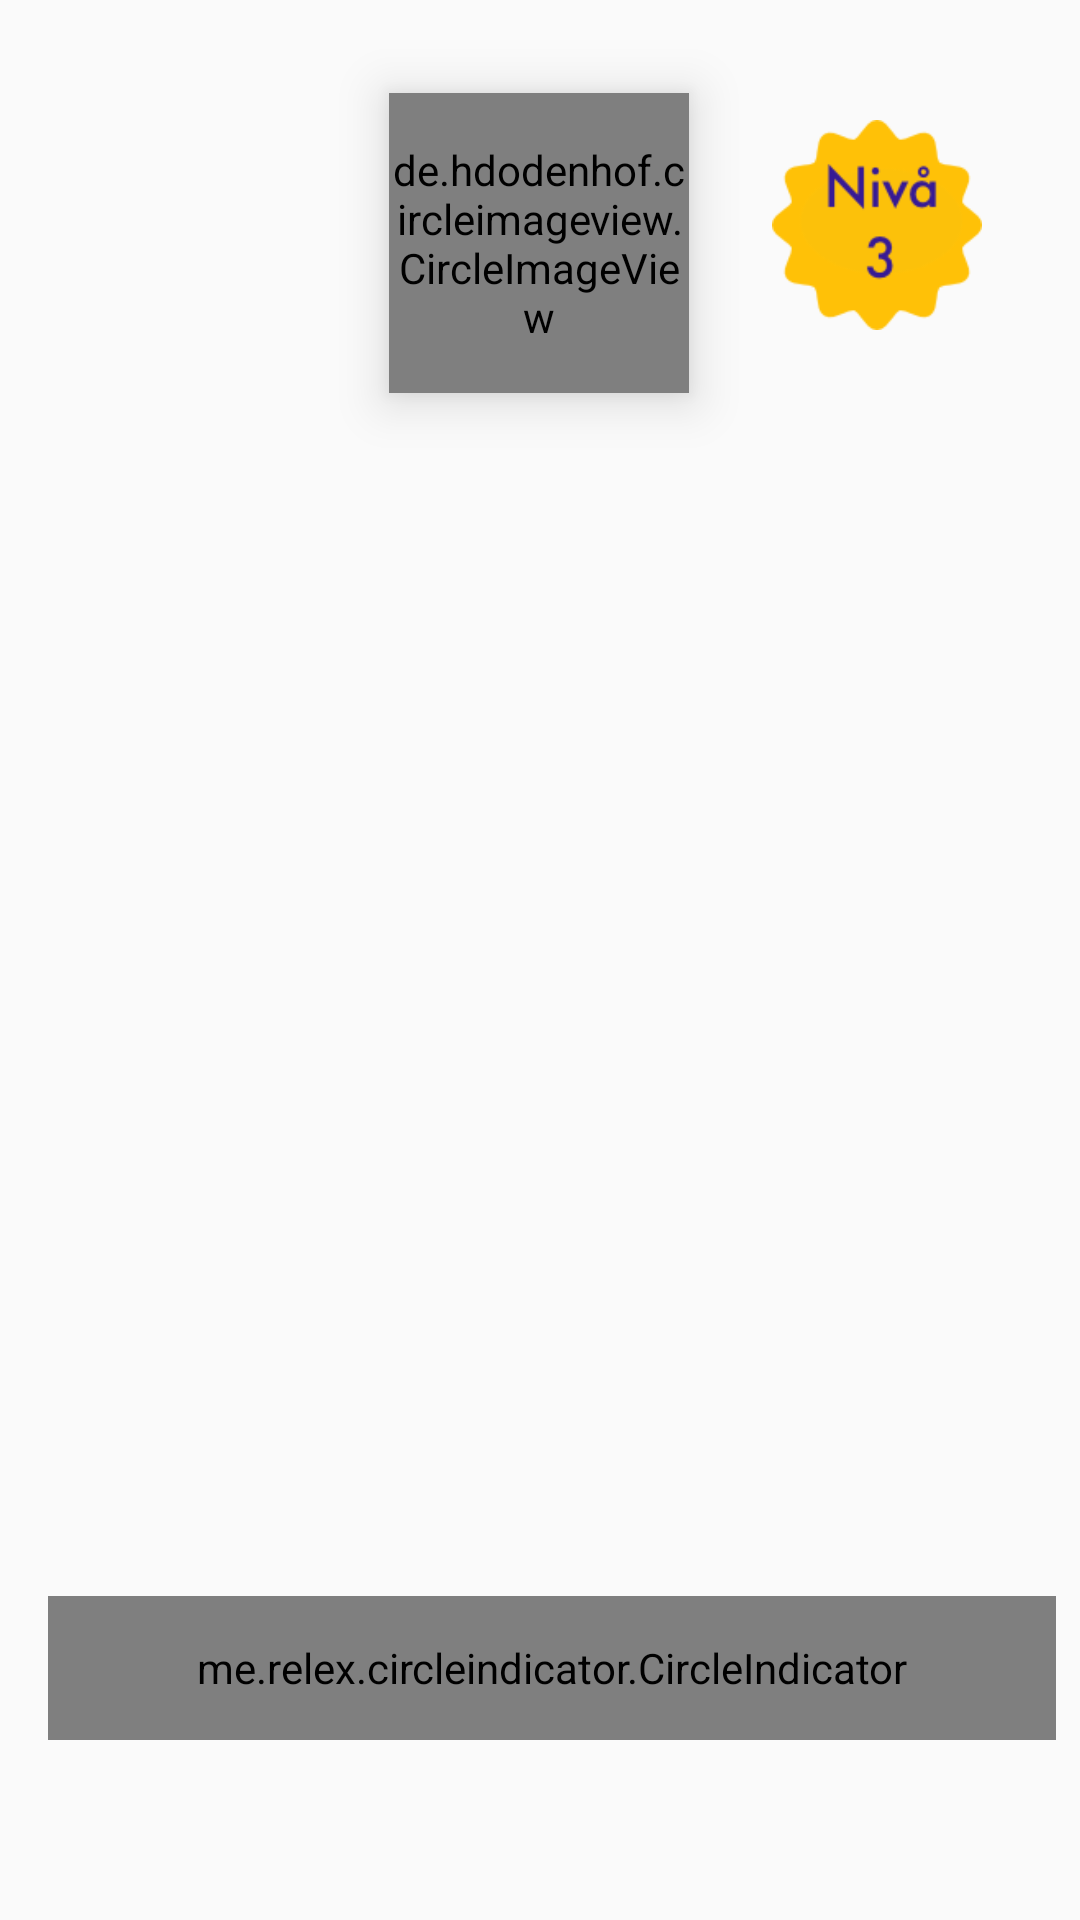

Icons on this 1080*1920 Android screen, each with its box as bbox=(x1, y1, x2, y2):
starry: bbox=(772, 120, 982, 330)
